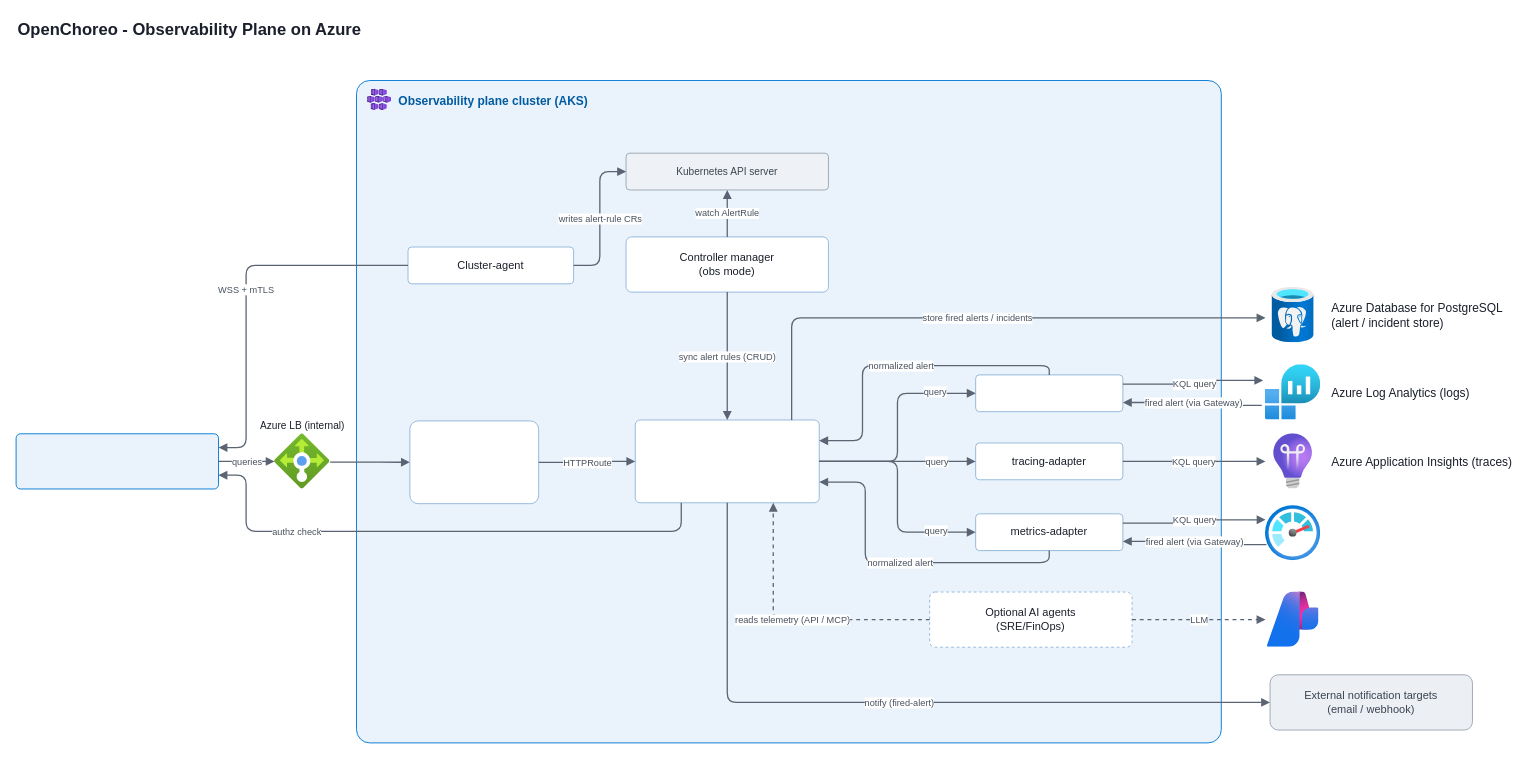
Some shapes in this 1529 by 759 pixel diagram are drawn without their labels. Here are the shapes that lost their labels. From the top down, the centre of each, then its label:
point 1049,393: logs-adapter
point 116,461: Control plane (Backstage + API + cluster-gateway)
point 474,462: Gateway
point 726,461: Observer (REST + MCP)
point 1292,532: Azure Monitor (metrics + alerts)
point 1292,619: Microsoft Foundry (optional)
